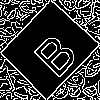B: (24, 24, 81, 80)
